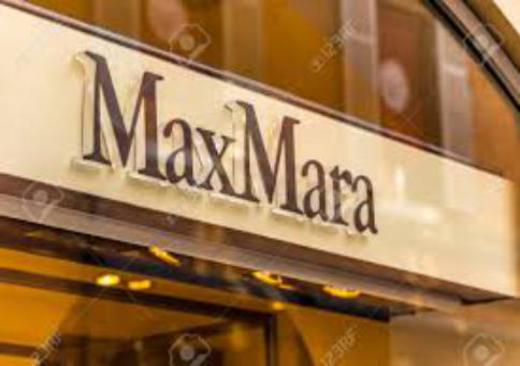MAX-MARA: (75, 46, 381, 238)
